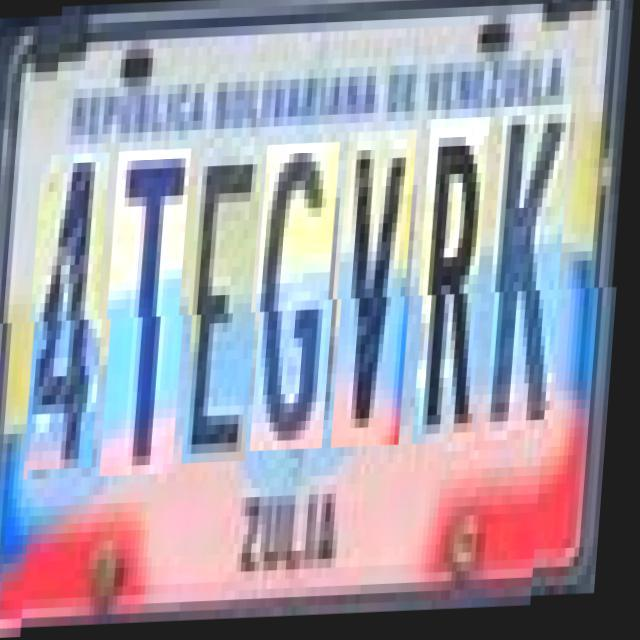4: (31, 154, 117, 472)
E: (189, 148, 270, 466)
G: (257, 145, 347, 454)
K: (491, 110, 578, 446)
R: (419, 121, 496, 448)
T: (108, 150, 198, 478)
V: (338, 133, 424, 451)
